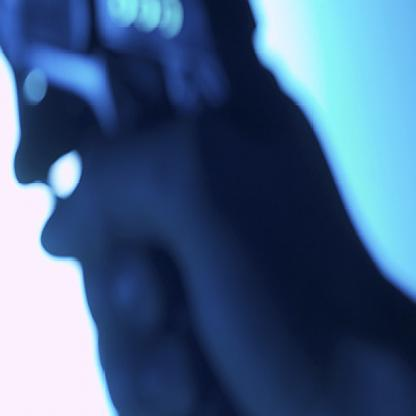gun: (0, 0, 279, 255)
